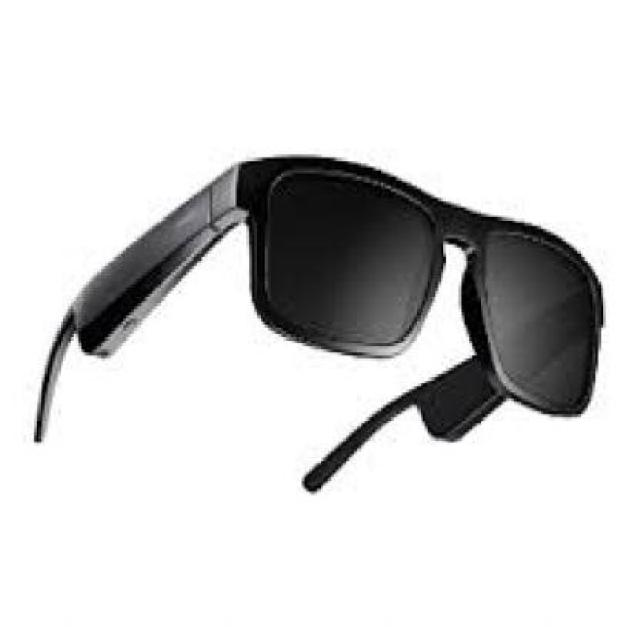gozluk: (222, 155, 620, 436)
